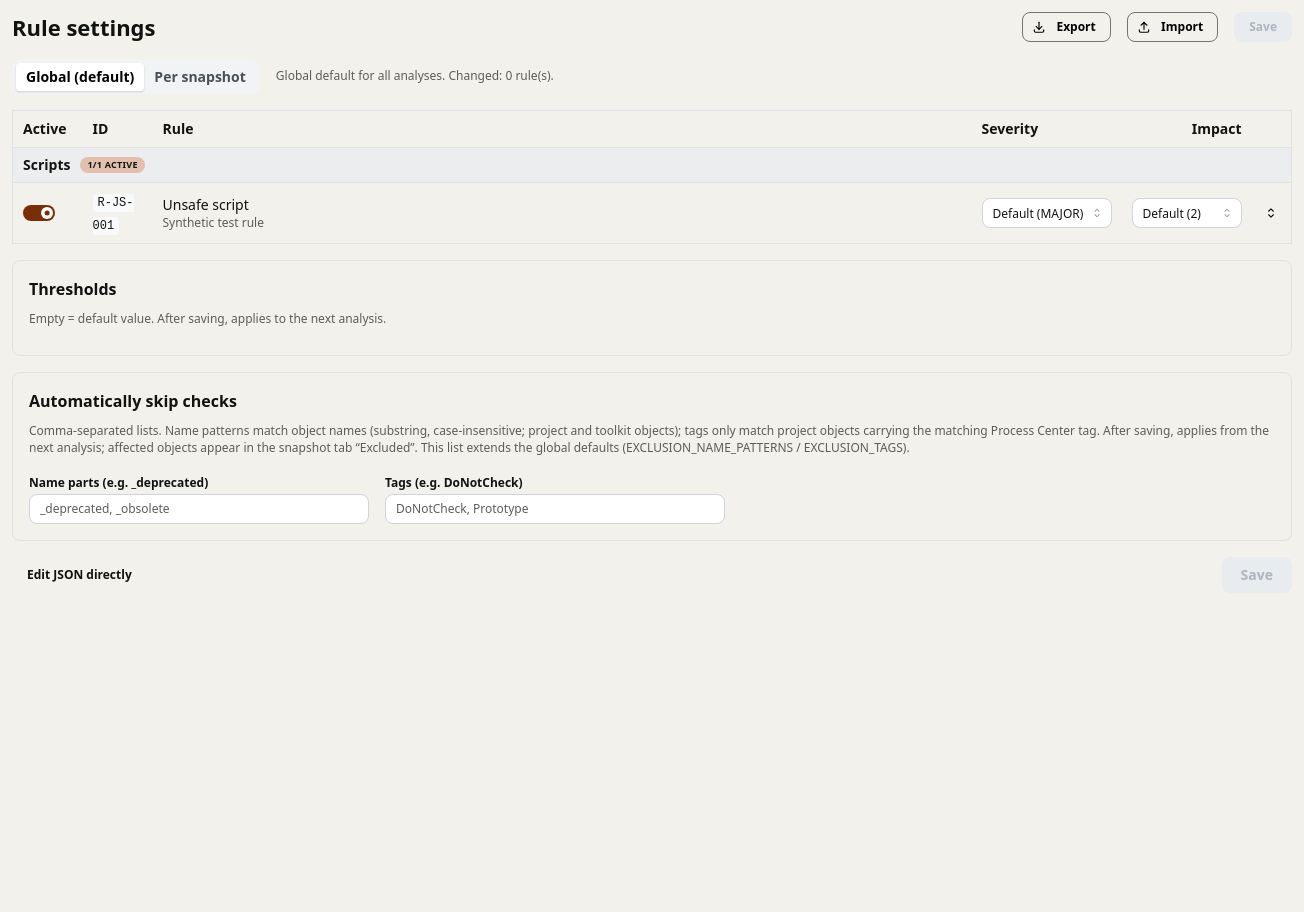
Scenario: RuleSettingsPage › saves a changed rule enablement override
The image size is (1304, 912).
Click the switch at (39, 213), box [23,205,55,221]
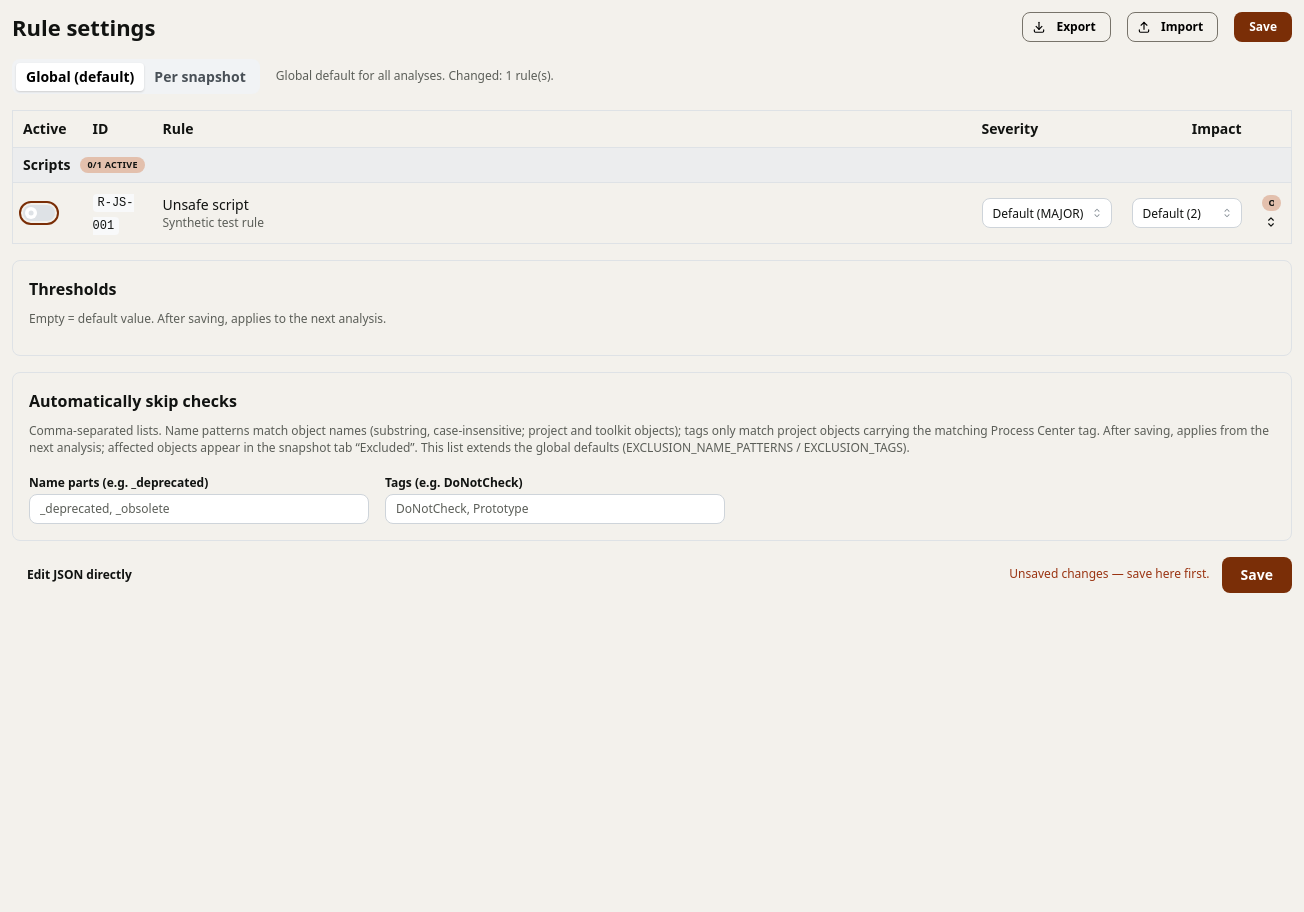
Click the button "Save" next to "Import" at (1263, 27), box [1234,12,1292,42]
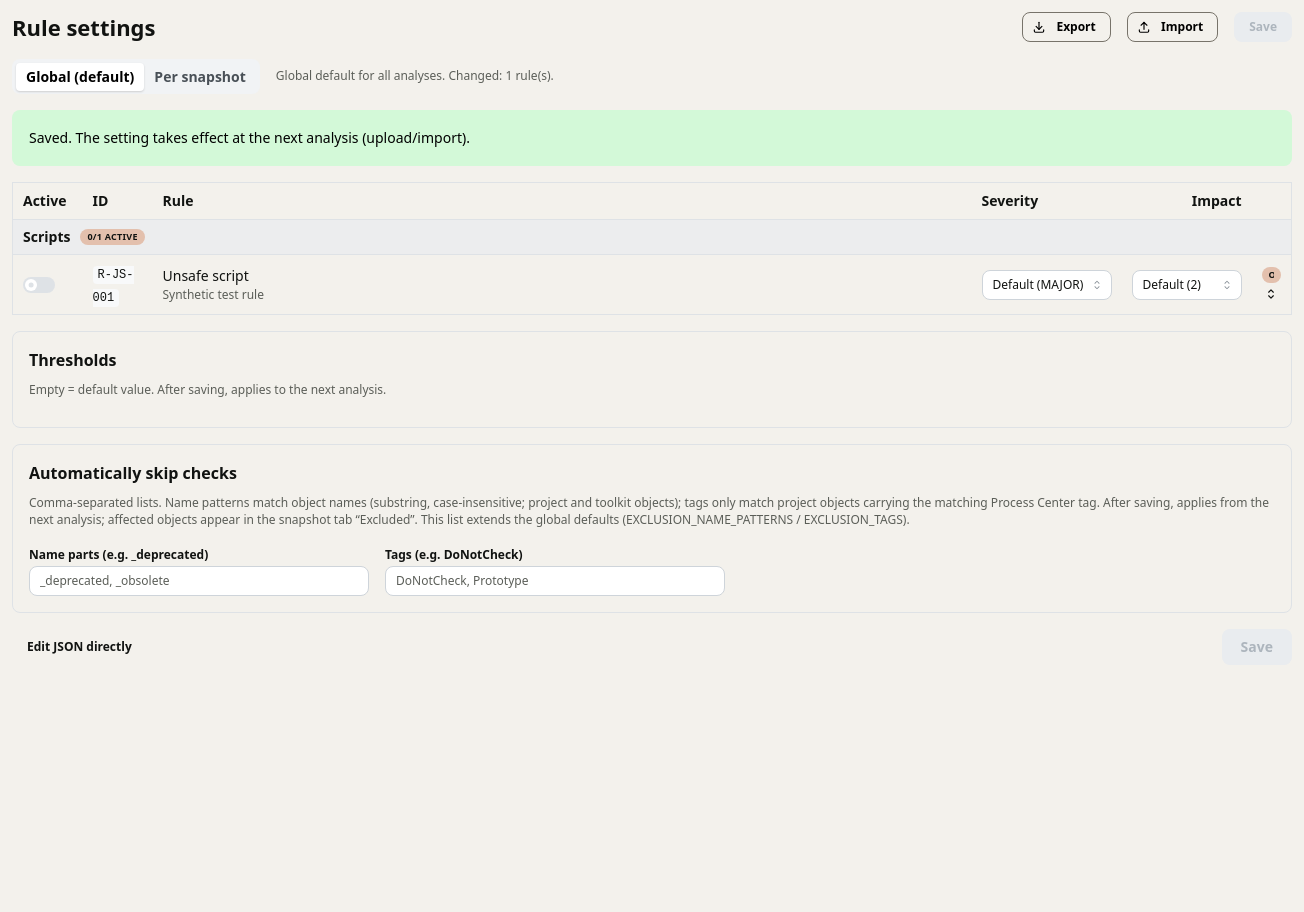
Expected: the text "Saved." is shown, [29,128,470,148]
